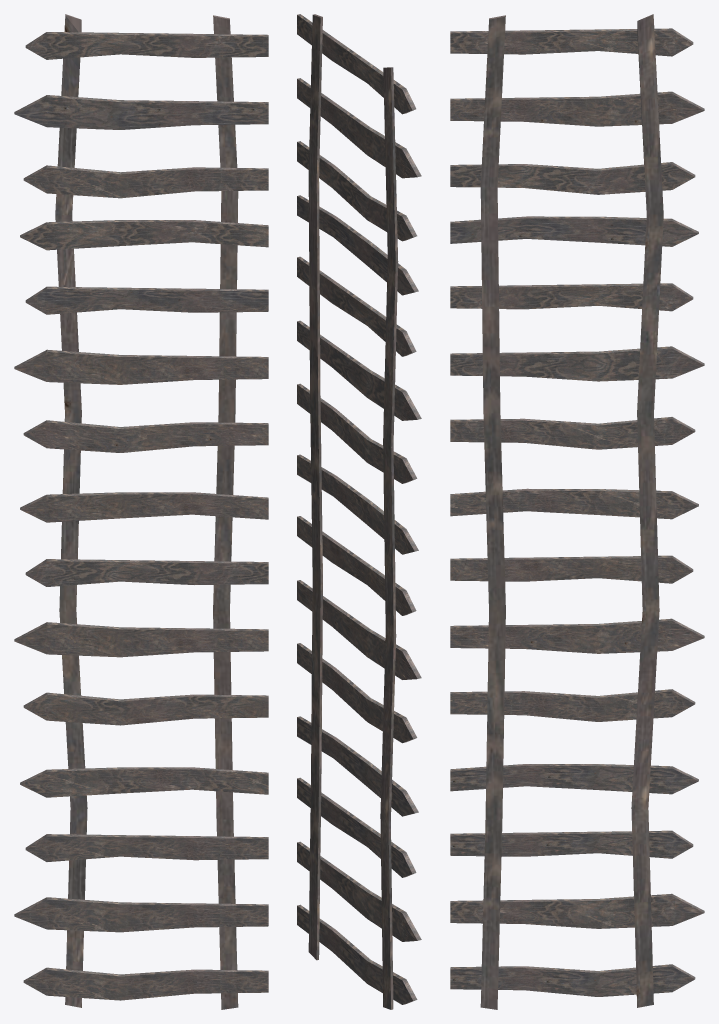
Rendered from pager.fbx.
3 views of the same model, side by side, from view 1: azimuth 90°, elevation 25°; view 2: azimuth 210°, elevation 25°; view 3: azimuth 270°, elevation 25° (orthographic). The views are drawn at different scales.
Parts seen in each view (by area): view 1: Cube; view 2: Cube; view 3: Cube.
Part boxes in pixels (box(x1,y1,x2,y2)): Cube: box(14, 14, 268, 1009); Cube: box(297, 14, 421, 1009); Cube: box(450, 14, 704, 1009).
Size of the model in its own units: 7.31 by 995 by 231.
